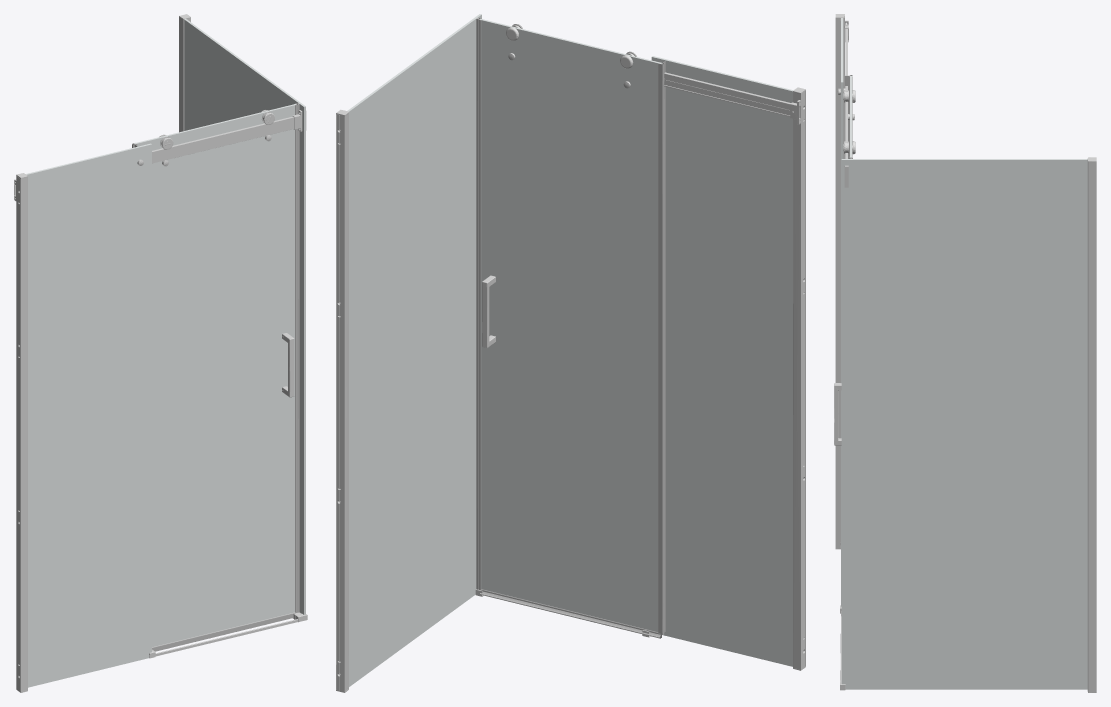
File: AEC_51156.glb
3 renders of one model, left to right at view 1: azimuth 30°, elevation 25°; view 2: azimuth 150°, elevation 25°; view 3: azimuth 270°, elevation 25°, orthographic. The views are drawn at different scales.
Visible parts, largest first — view 1: 0; view 2: 0; view 3: 0.
Part boxes in pixels (x1,y1,x2,y2): 0: [14, 14, 307, 692]; 0: [336, 14, 805, 692]; 0: [834, 14, 1096, 692].
Bounding box in the file's own units: 1.19 × 2.01 × 0.898.
Materials: 1 (1 with a texture image).
